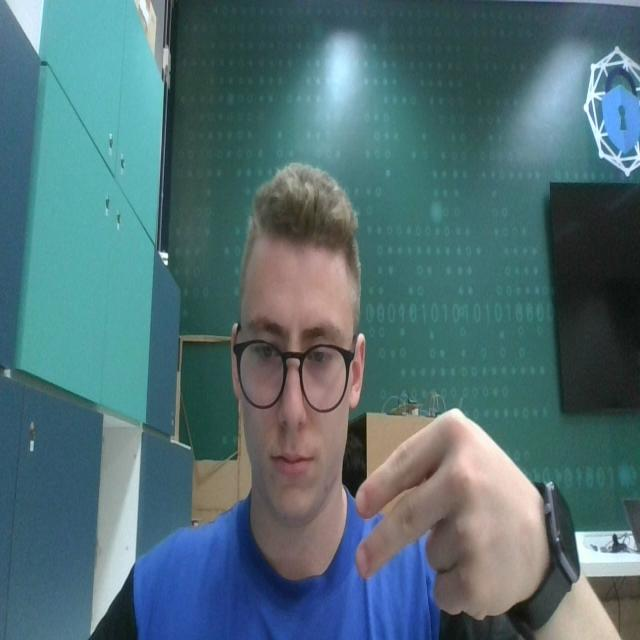N: (348, 390, 536, 622)
